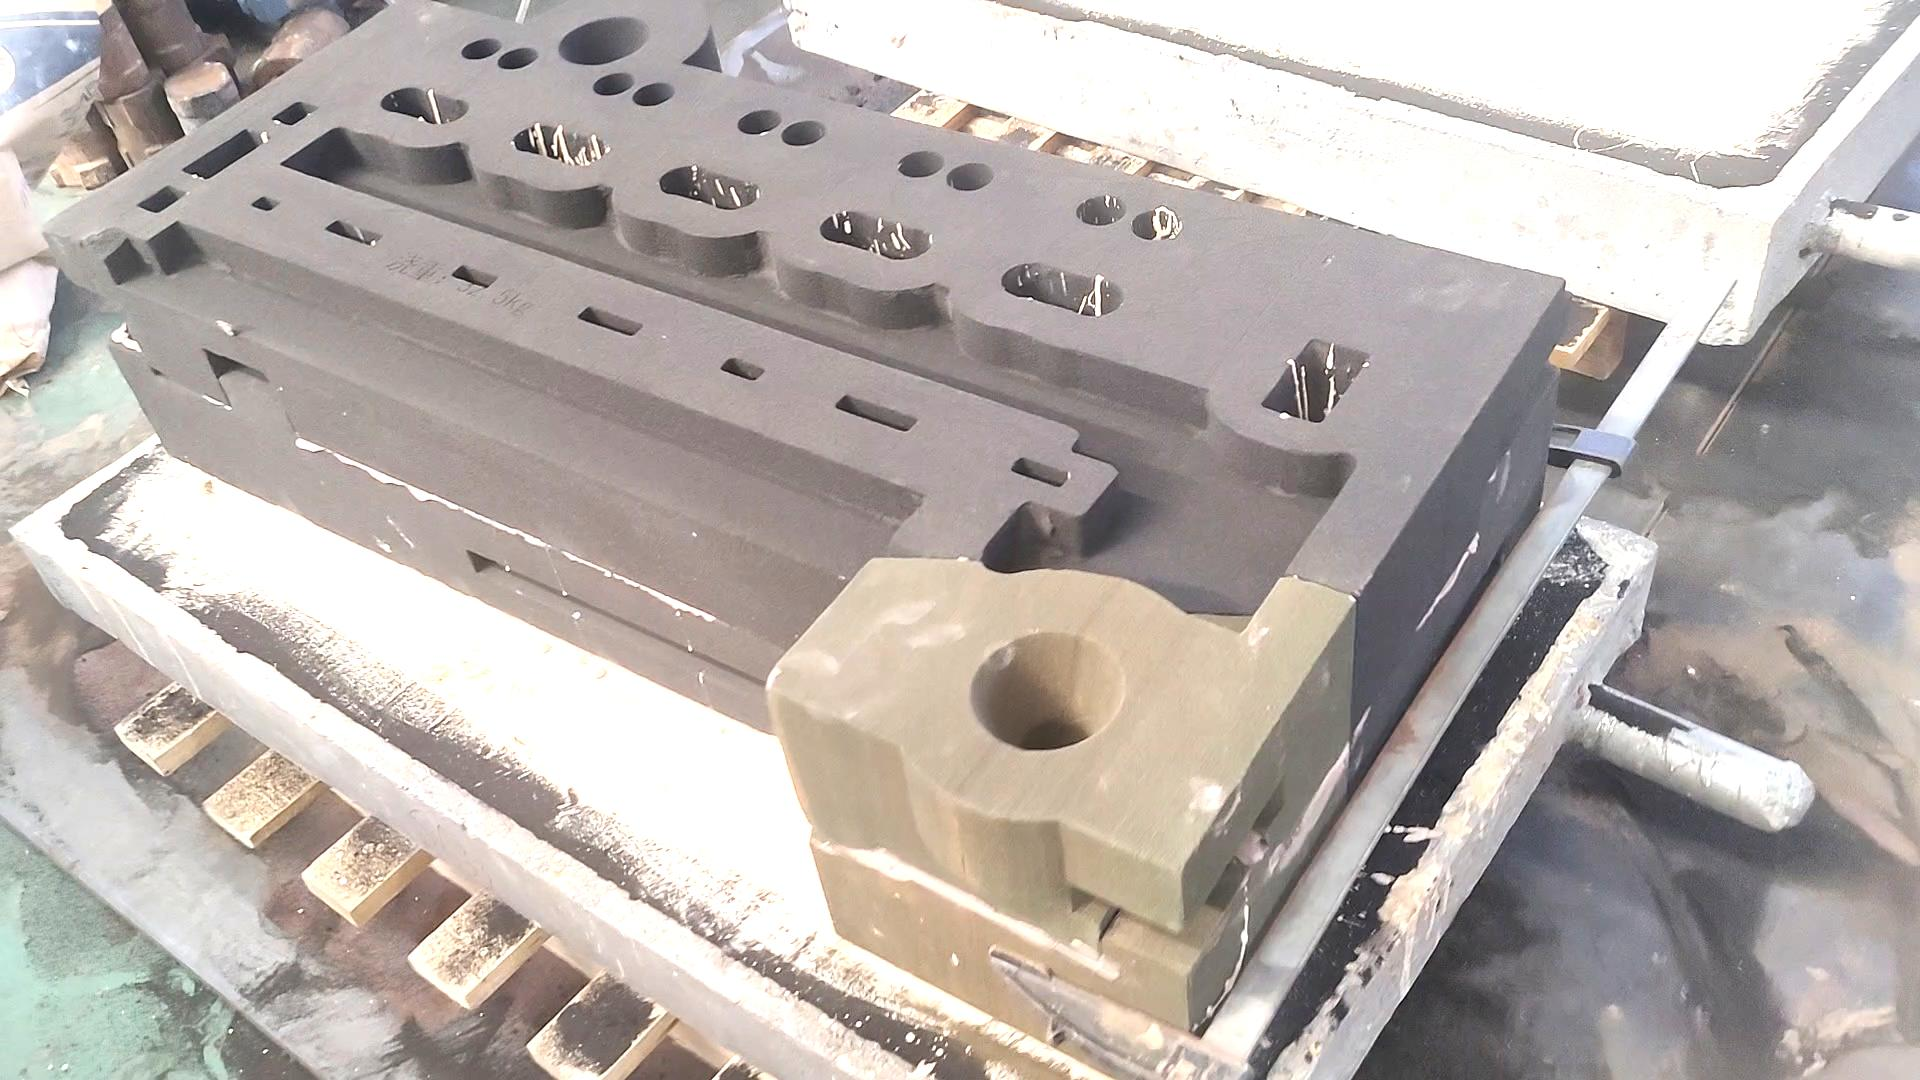pouring hole: (968, 632, 1124, 750), (559, 16, 649, 65)
